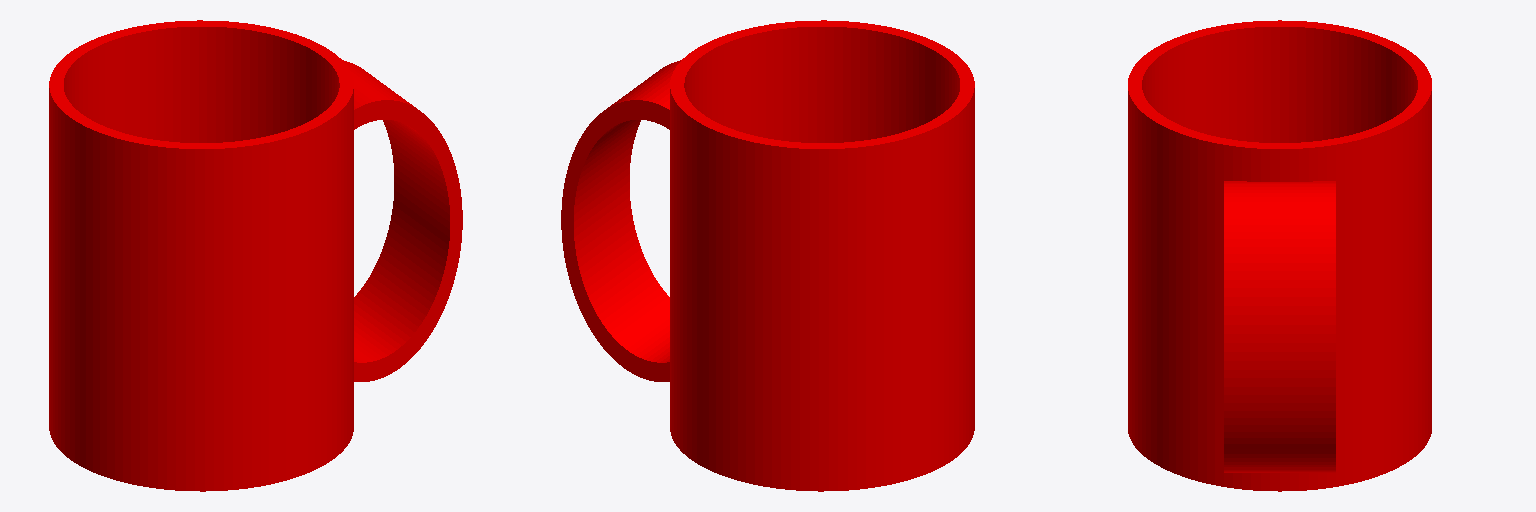
URDF robot description (mug.urdf):
<?xml version="1.0" ?>
<robot name="mug.urdf">
  <link name="baseLink">
    <inertial>
      <origin rpy="0 0 0" xyz="0 0 0"/>
       <mass value=".1"/>
       <inertia ixx="1" ixy="0" ixz="0" iyy="1" iyz="0" izz="1"/>
    </inertial>
    <visual>
      <origin rpy="0 0 0" xyz="0 0 0"/>
      <geometry>
        <mesh filename="3.stl" scale="1 1 1" />
      </geometry>
      <material name="red">
        <color rgba="1 0 0 1"/>
      </material>
    </visual>
    <collision>
      <origin rpy="0 0 0" xyz="0 0 0"/>
      <geometry>
        <mesh filename="3_convex.obj" scale="1 1 1" />
      </geometry>
    </collision>
  </link>
</robot>

--- Facts derived from the render (not from the file) ---
The picture shows the robot from 3 angles, left to right: view 1: azimuth 30°, elevation 25°; view 2: azimuth 150°, elevation 25°; view 3: azimuth 270°, elevation 25°; orthographic projection.
Model mug.urdf with 1 links and 0 joints (none), rooted at baseLink, posed all joints at 0.
Visible links, largest first — view 1: baseLink; view 2: baseLink; view 3: baseLink.
Link boxes in pixels (x1,y1,x2,y2): baseLink: (49,20,462,491); baseLink: (561,20,974,491); baseLink: (1128,20,1431,491).
Bounding box of the posed robot: 0.1476 × 0.1067 × 0.1322 m (x, y, z).
1 mesh visuals loaded from 1 distinct referenced files (1 binary STL).